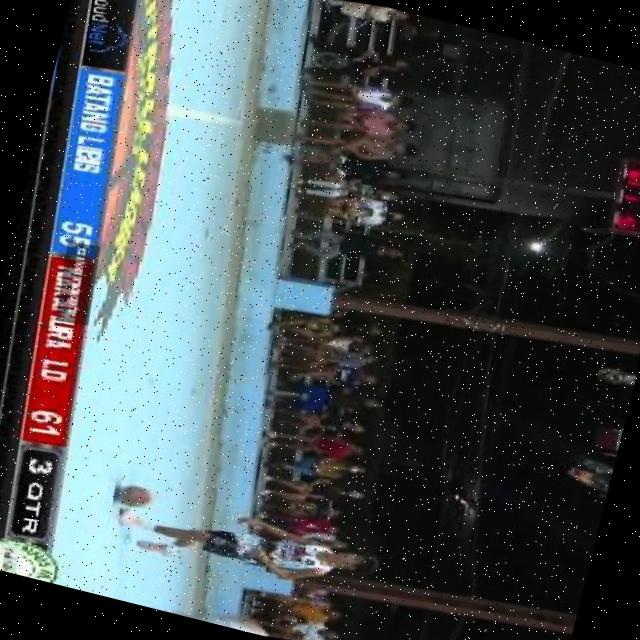ball: (105, 474, 160, 516)
